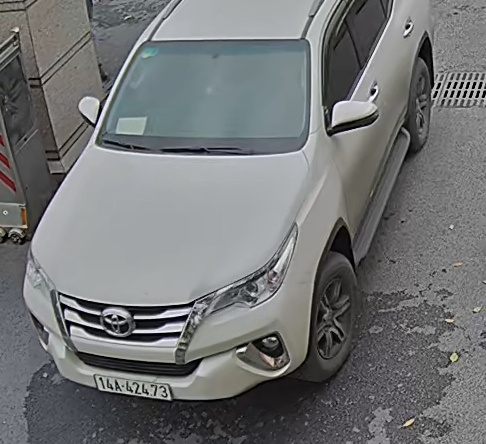vehicle plate: (87, 369, 176, 406)
